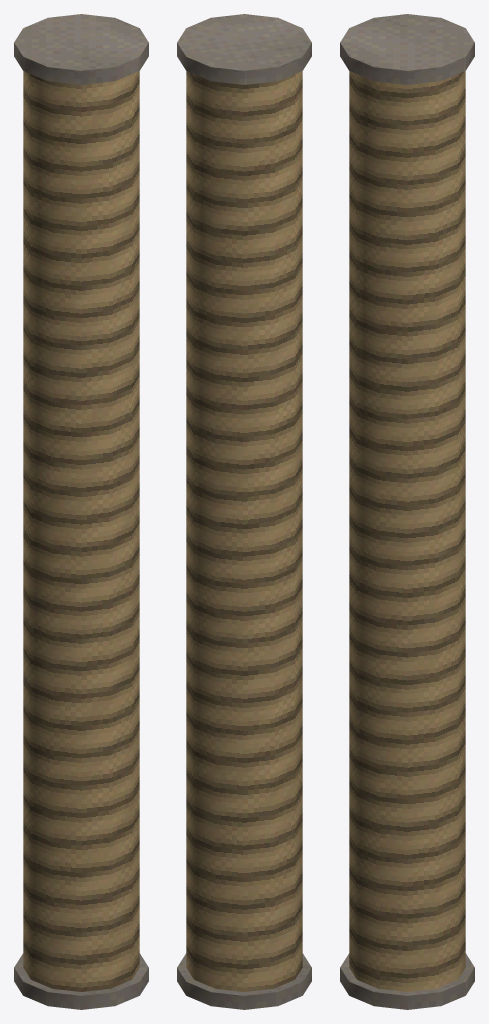
File: cattree_post_80.glb
3 renders of one model, left to right at view 1: azimuth 90°, elevation 25°; view 2: azimuth 150°, elevation 25°; view 3: azimuth 270°, elevation 25°, orthographic.
Visible parts, largest first — view 1: rope, collar (×2); view 2: rope, collar (×2); view 3: rope, collar (×2).
Part boxes in pixels (left/top/right/bottom): rope: left=23, top=71, right=139, bottom=991; collar (×2): left=14, top=14, right=148, bottom=1009; rope: left=186, top=71, right=302, bottom=991; collar (×2): left=177, top=14, right=311, bottom=1009; rope: left=349, top=71, right=465, bottom=991; collar (×2): left=340, top=14, right=474, bottom=1009.
Size of the model in its own units: 0.104 by 0.8 by 0.104.
Materials: 2 (2 with a texture image).
